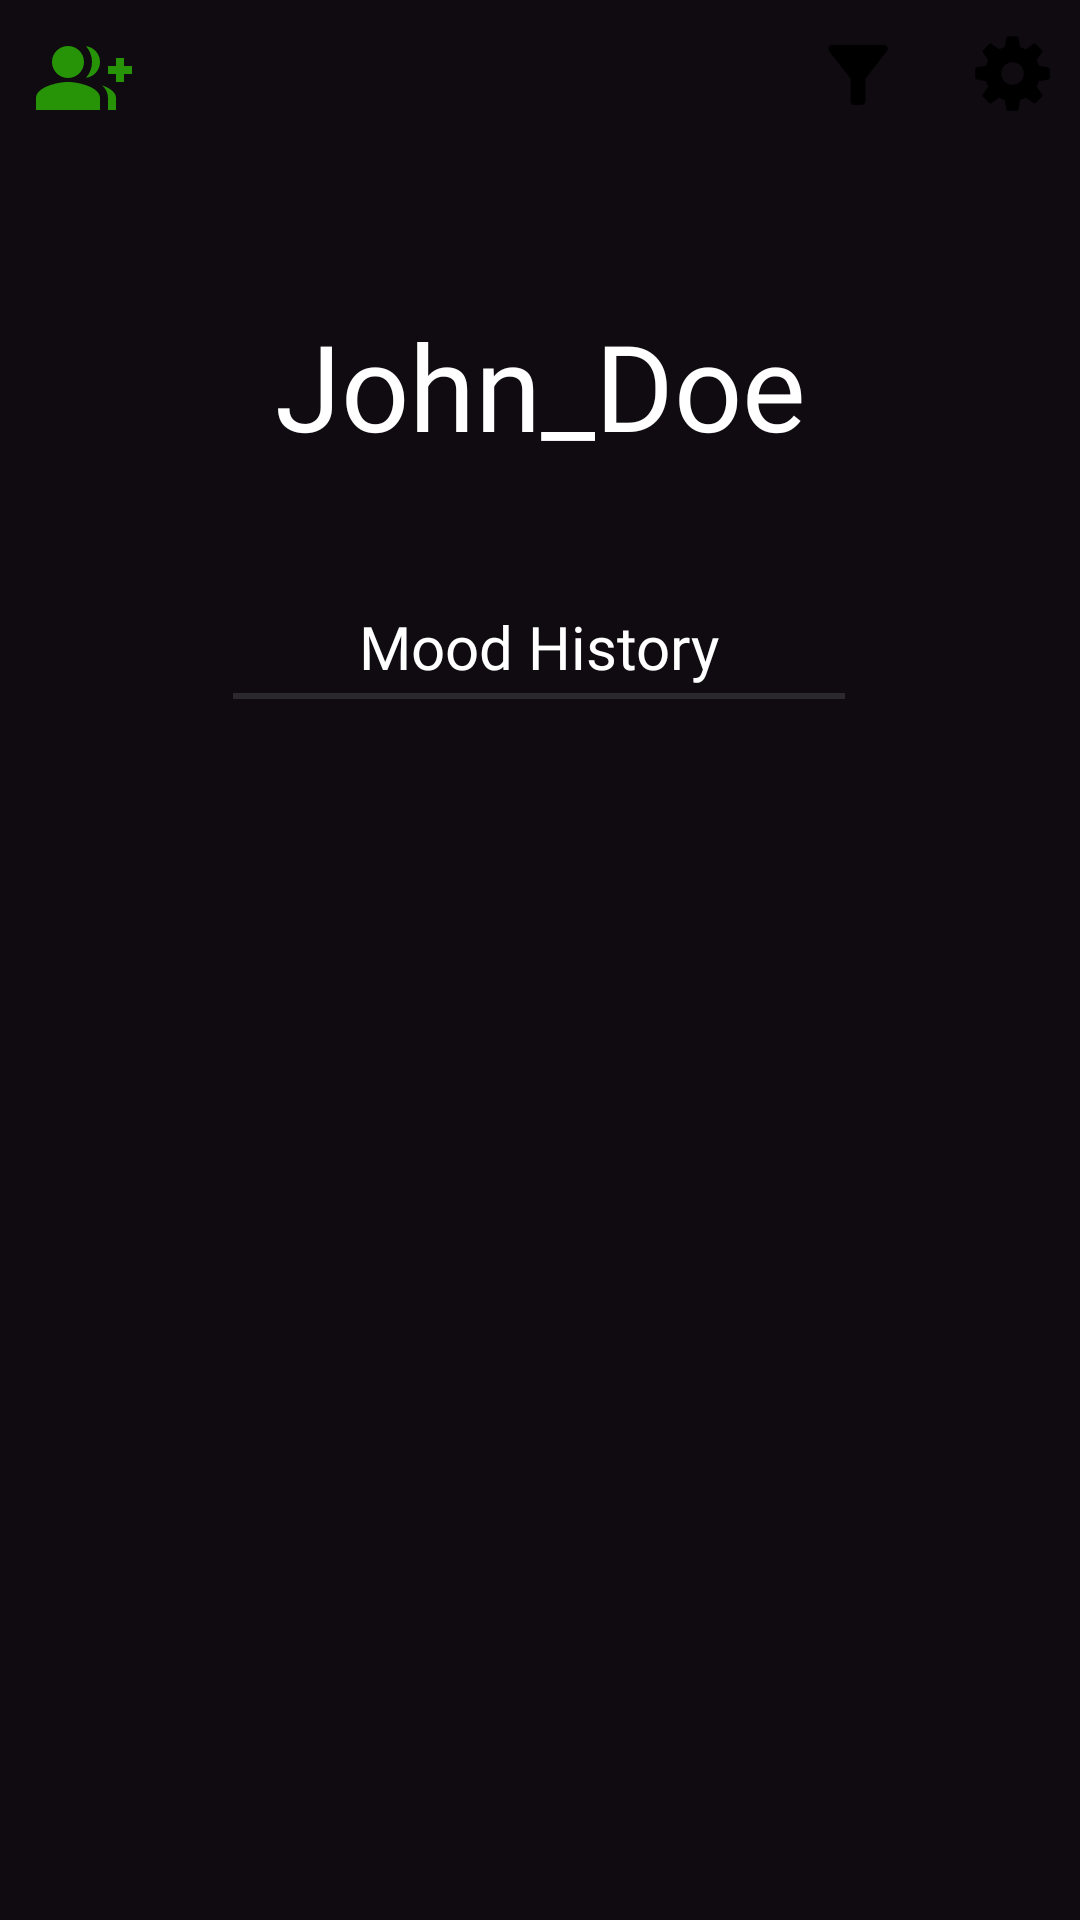

Locate icon controls on the screen. Image size 1080 x 1920, boxes as detection(x1, y1, x2, y2).
group add: detection(36, 46, 132, 110)
